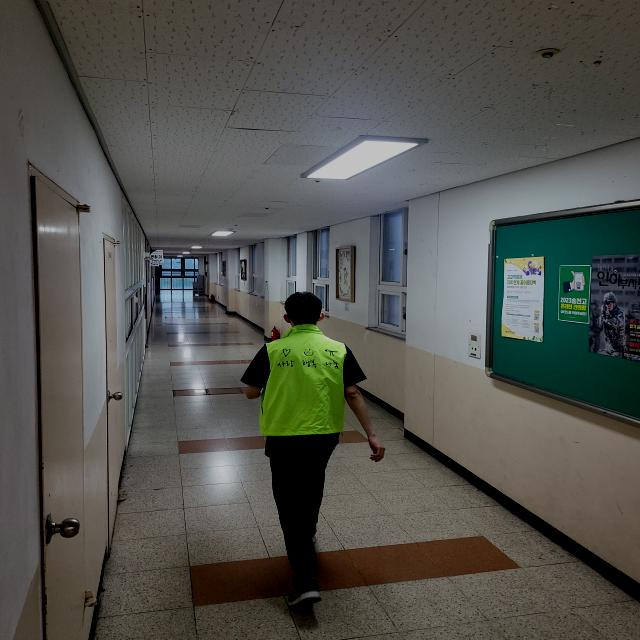weston_spy: (245, 316, 369, 449)
